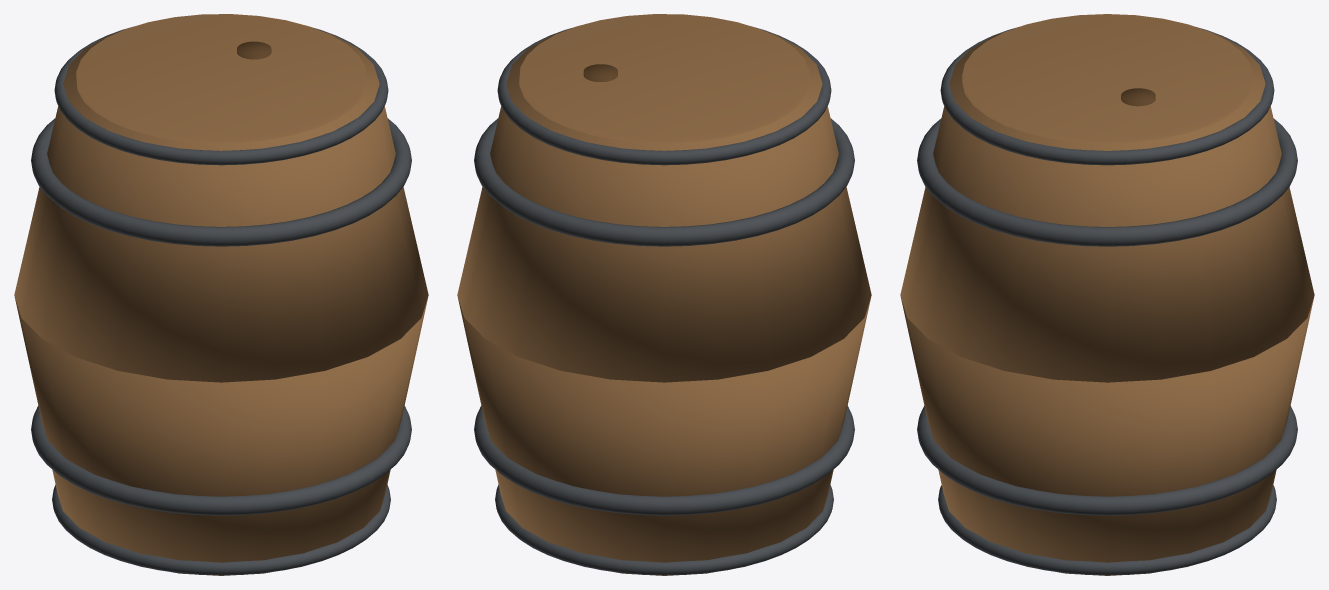
The model's file is 3D模型 props_barrel.glb.
The picture shows the model from 3 angles, left to right: view 1: azimuth 30°, elevation 25°; view 2: azimuth 150°, elevation 25°; view 3: azimuth 270°, elevation 25°; orthographic projection.
Parts seen in each view (by area): view 1: Cone.001, Cone, part_lid, Torus.001, Torus, Torus.003, Torus.002, part_bung; view 2: Cone.001, Cone, part_lid, Torus.001, Torus, Torus.003, Torus.002, part_bung; view 3: Cone.001, Cone, part_lid, Torus.001, Torus, Torus.003, Torus.002, part_bung.
Boxes of the visible parts, left/top/right/bottom form: Cone.001: left=14, top=32, right=428, bottom=382; Cone: left=15, top=298, right=427, bottom=575; part_lid: left=76, top=14, right=366, bottom=143; Torus.001: left=31, top=118, right=411, bottom=246; Torus: left=31, top=406, right=411, bottom=515; Torus.003: left=54, top=27, right=388, bottom=165; Torus.002: left=52, top=485, right=390, bottom=575; part_bung: left=237, top=41, right=271, bottom=59; Cone.001: left=457, top=32, right=871, bottom=382; Cone: left=458, top=298, right=870, bottom=575; part_lid: left=519, top=14, right=809, bottom=143; Torus.001: left=474, top=118, right=854, bottom=246; Torus: left=474, top=406, right=854, bottom=515; Torus.003: left=497, top=27, right=831, bottom=165; Torus.002: left=495, top=485, right=833, bottom=575; part_bung: left=583, top=64, right=617, bottom=81; Cone.001: left=900, top=33, right=1314, bottom=382; Cone: left=901, top=298, right=1313, bottom=575; part_lid: left=962, top=14, right=1252, bottom=143; Torus.001: left=917, top=118, right=1297, bottom=246; Torus: left=917, top=406, right=1297, bottom=515; Torus.003: left=940, top=27, right=1274, bottom=165; Torus.002: left=938, top=485, right=1276, bottom=575; part_bung: left=1121, top=88, right=1155, bottom=106.
Size of the model in its own units: 0.67 by 0.778 by 0.67.
